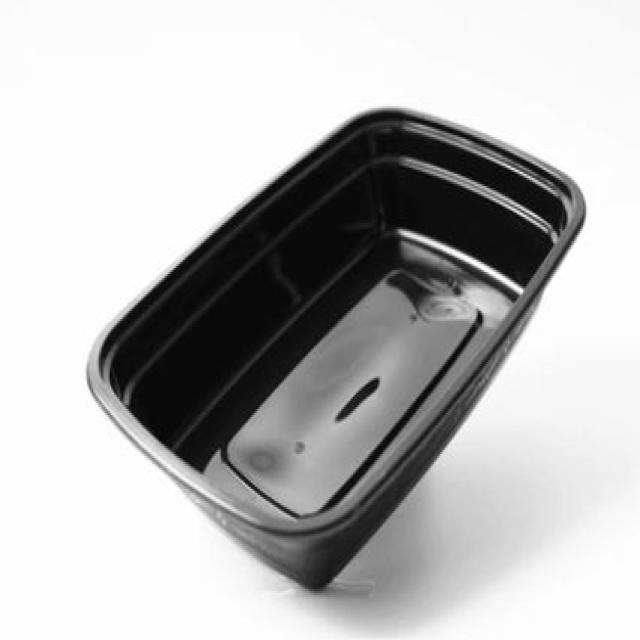general: (84, 102, 588, 593)
